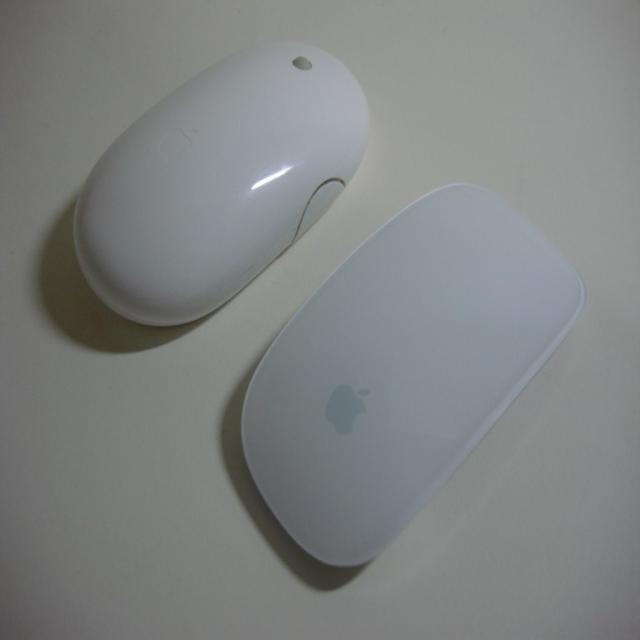Computer mouse: (237, 180, 586, 570), (71, 29, 374, 328)
